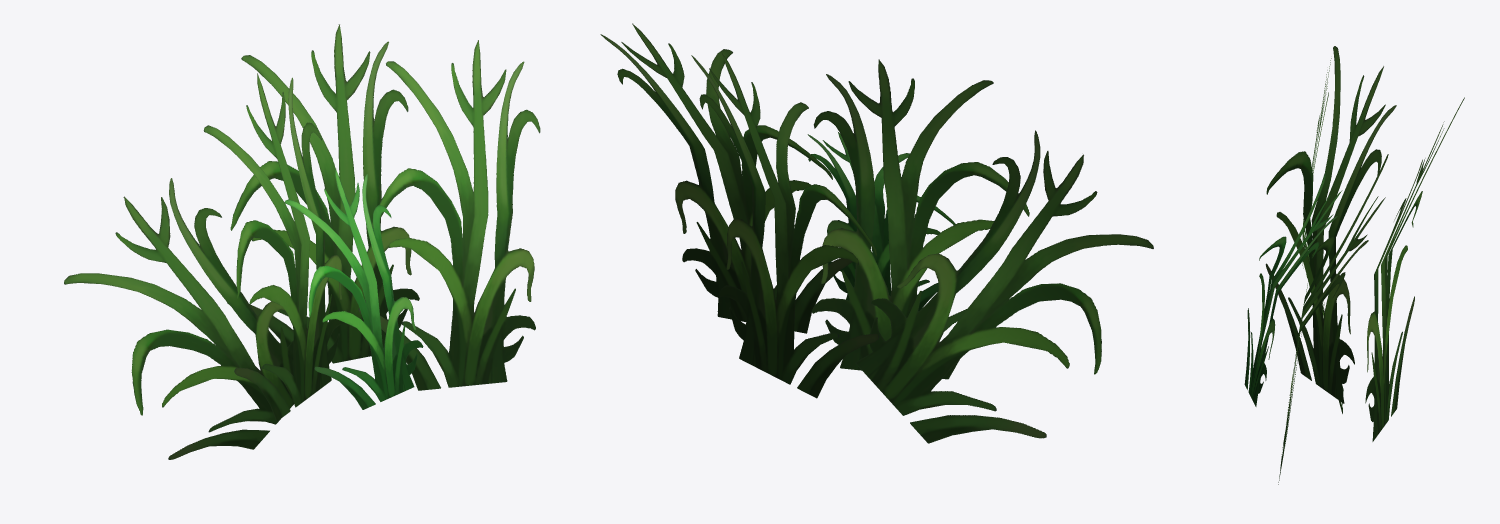
The model's file is 植被草04.FBX.
The picture shows the model from 3 angles, left to right: view 1: azimuth 30°, elevation 25°; view 2: azimuth 150°, elevation 25°; view 3: azimuth 270°, elevation 25°; orthographic projection. The views are drawn at different scales.
Visible parts, largest first — view 1: 植被草04; view 2: 植被草04; view 3: 植被草04.
Part boxes in pixels (left/top/right/bottom): 植被草04: left=64, top=24, right=540, bottom=459; 植被草04: left=600, top=23, right=1153, bottom=443; 植被草04: left=1244, top=46, right=1464, bottom=484.
Bounding box in the file's own units: 159 × 114 × 62.75.
2 materials, 2 textured.
